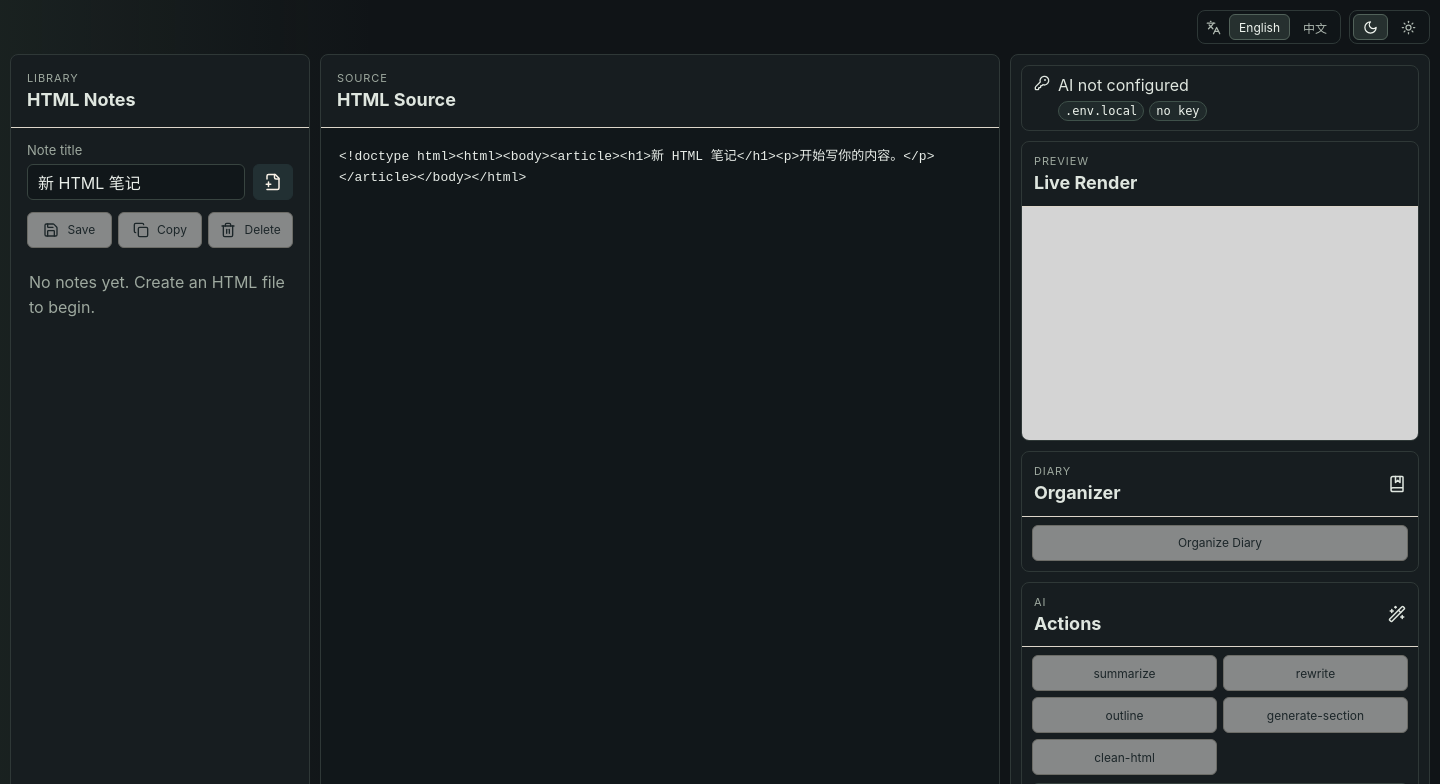
Test: App workspace › creates a note and opens it in the editor
Replace the text in the field labelled "Note title" with "First note" at (136, 182), box [27,164,245,200]
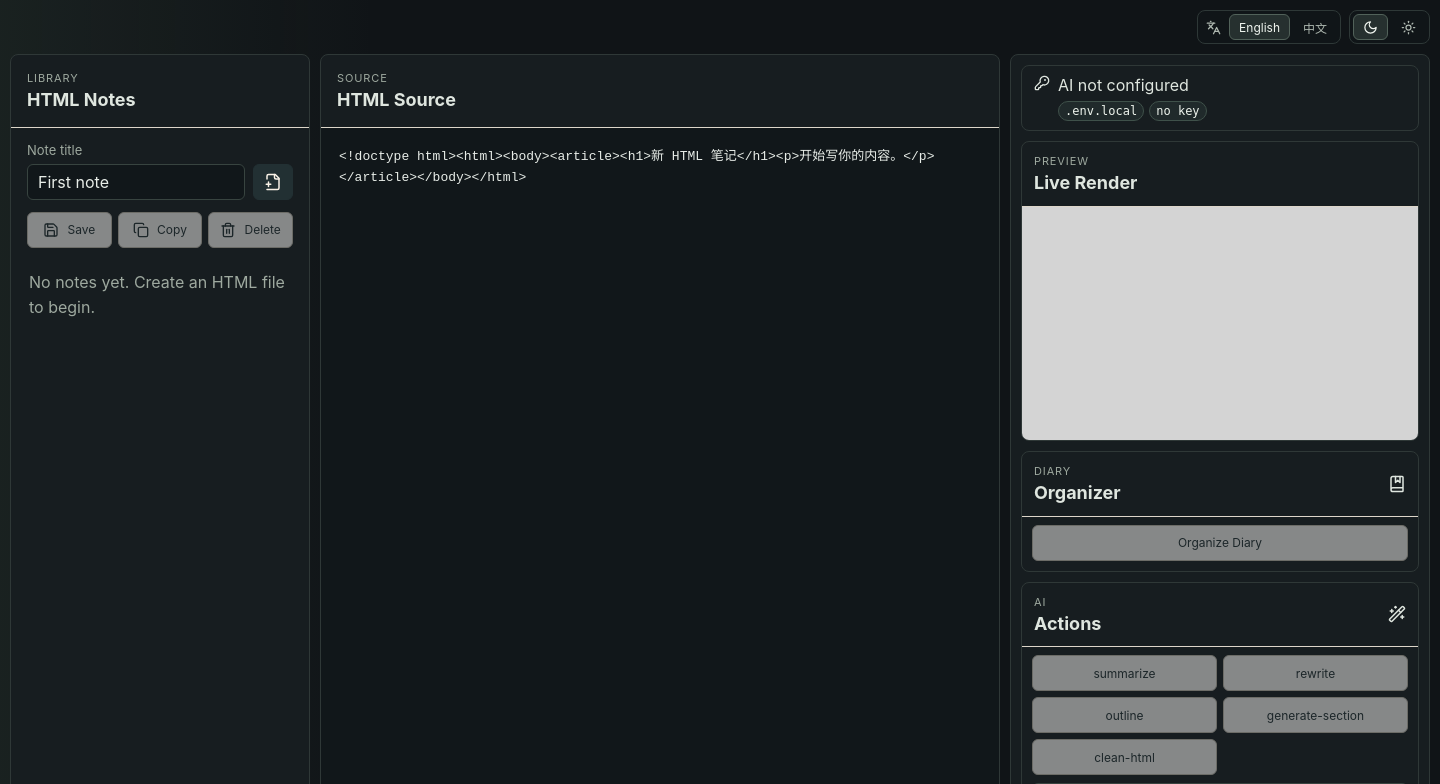
Click the button named "create note".
click(273, 182)  # box [253,164,293,200]
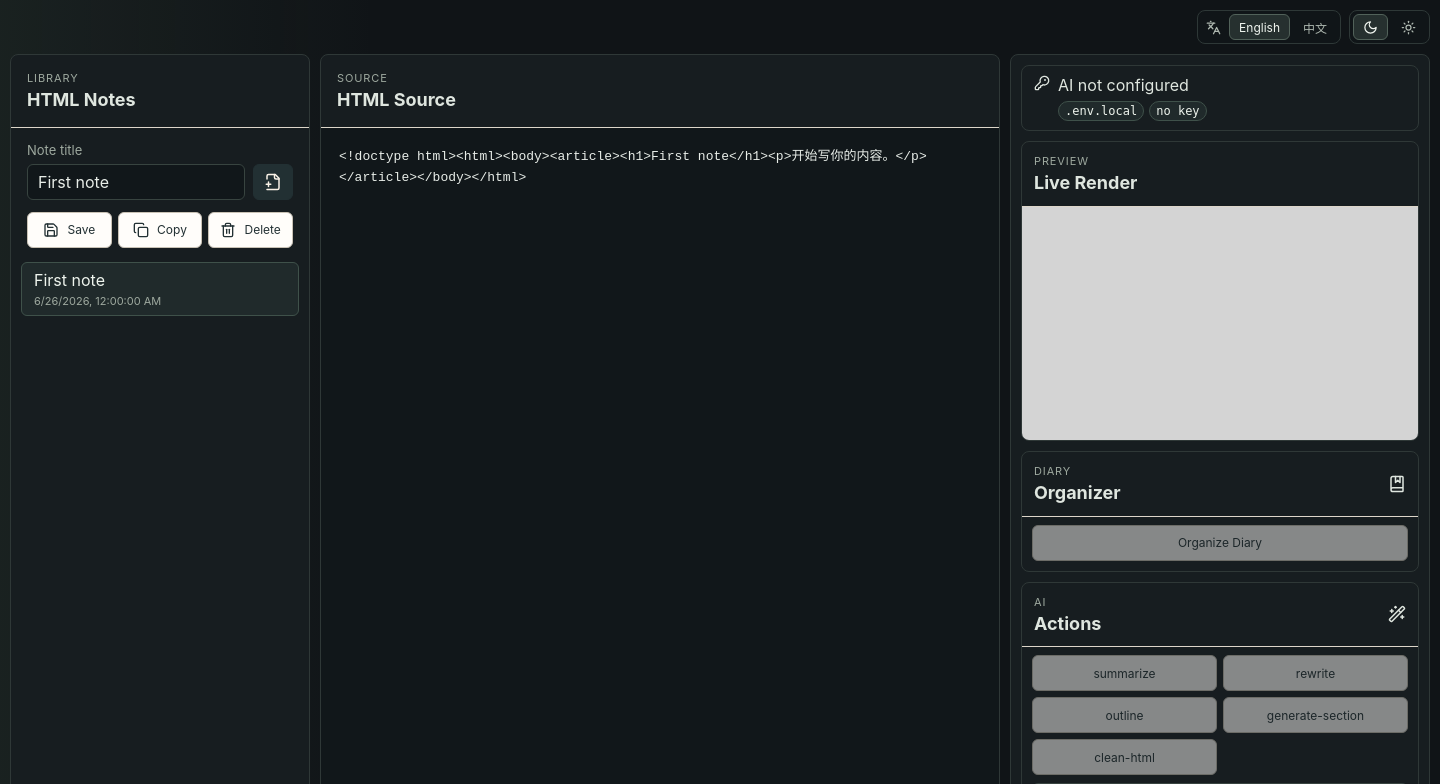
Expected: the text "First note" is shown, [34,270,105,290]
